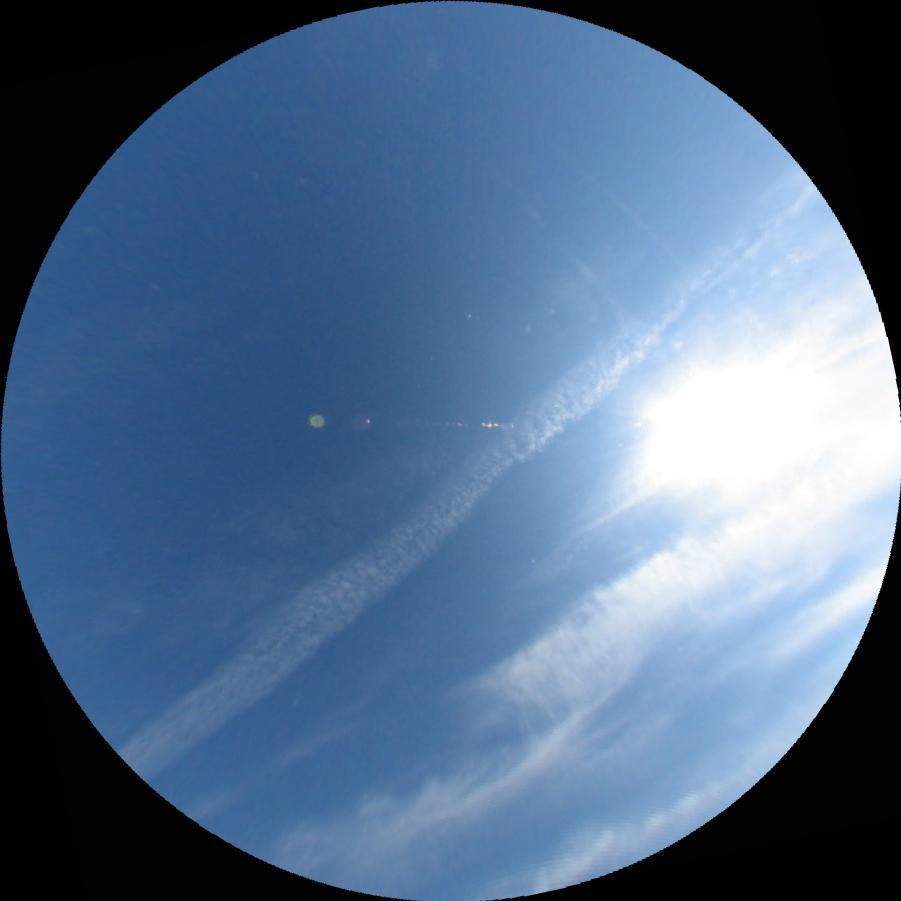contrail veryold: (115, 163, 832, 793), (510, 174, 631, 327)
sun: (634, 352, 817, 510)
unknow: (575, 159, 678, 263)
